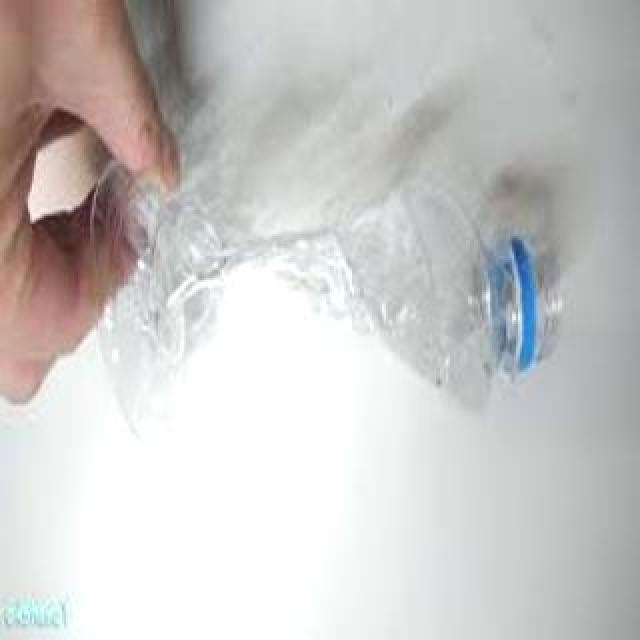Pet_Bottle: (89, 101, 565, 461)
